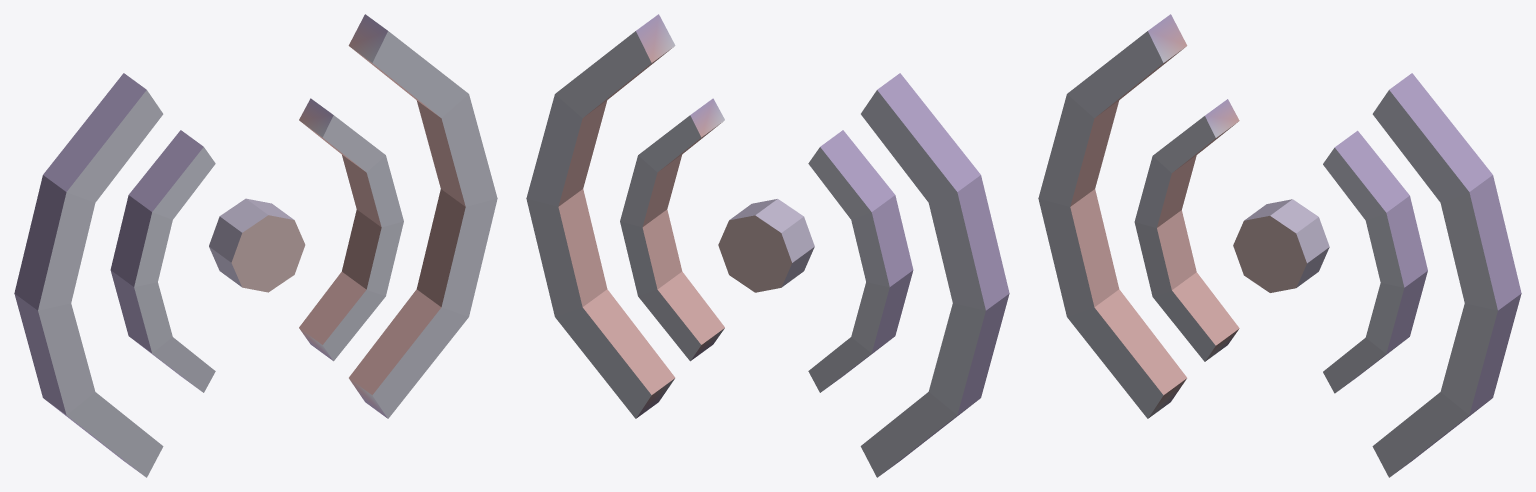
Rendered from radar.glb.
3 views of the same model, side by side, from view 1: azimuth 30°, elevation 25°; view 2: azimuth 150°, elevation 25°; view 3: azimuth 330°, elevation 25° (orthographic).
Parts seen in each view (by area): view 1: radar; view 2: radar; view 3: radar.
Part boxes in pixels (left/top/right/bottom): radar: left=14, top=14, right=497, bottom=477; radar: left=526, top=14, right=1009, bottom=477; radar: left=1038, top=14, right=1521, bottom=477.
Bounding box in the file's own units: 0.3965 × 0.32 × 0.0372.
